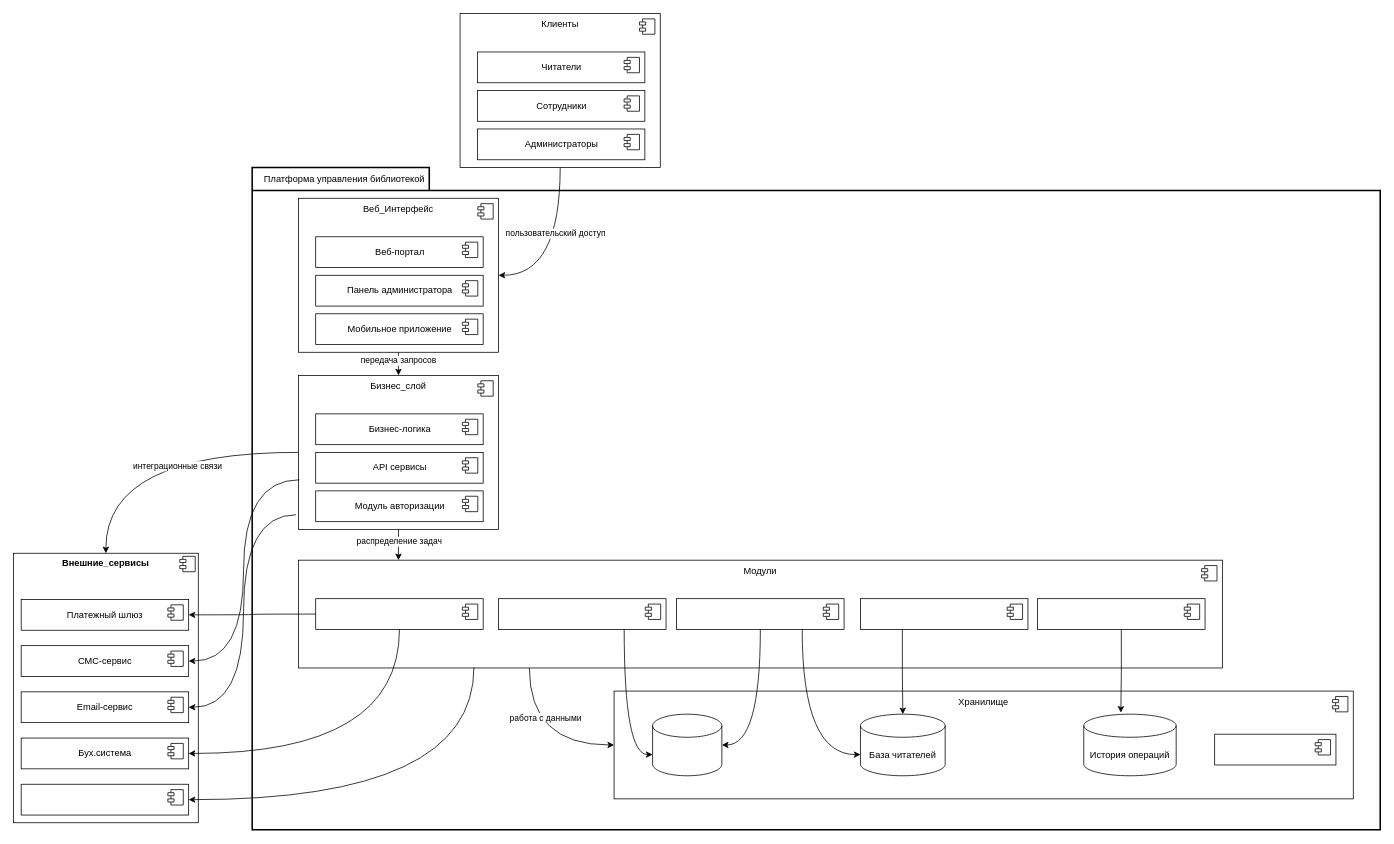
This 1394x844 diagram has some shape labels left out. The centre of each missing label's shape, as x and y in pixels:
"База книг" goes at point (687, 744).
"Кэш-системы" goes at point (1275, 749).
"Модуль выдачи книг" goes at point (1121, 613).
"Модуль книжного фонда" goes at point (582, 613).
"Модуль отчетности" goes at point (760, 613).
"Модуль читателей" goes at point (944, 613).
"Финансовый модуль" goes at point (399, 613).
"Электронный архив" goes at point (104, 799).
